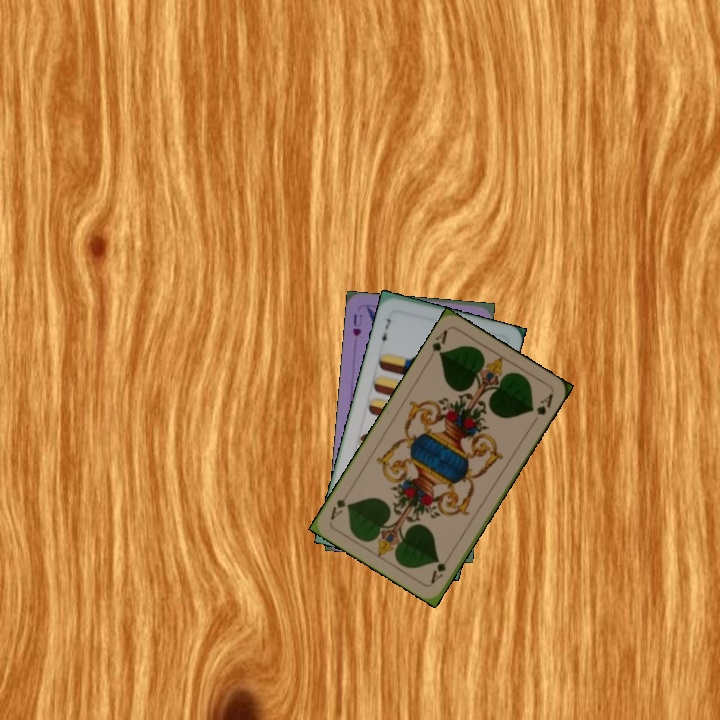E7: (376, 314, 393, 347)
GA: (427, 550, 454, 587), (427, 326, 451, 359)
HU: (348, 310, 365, 339)
